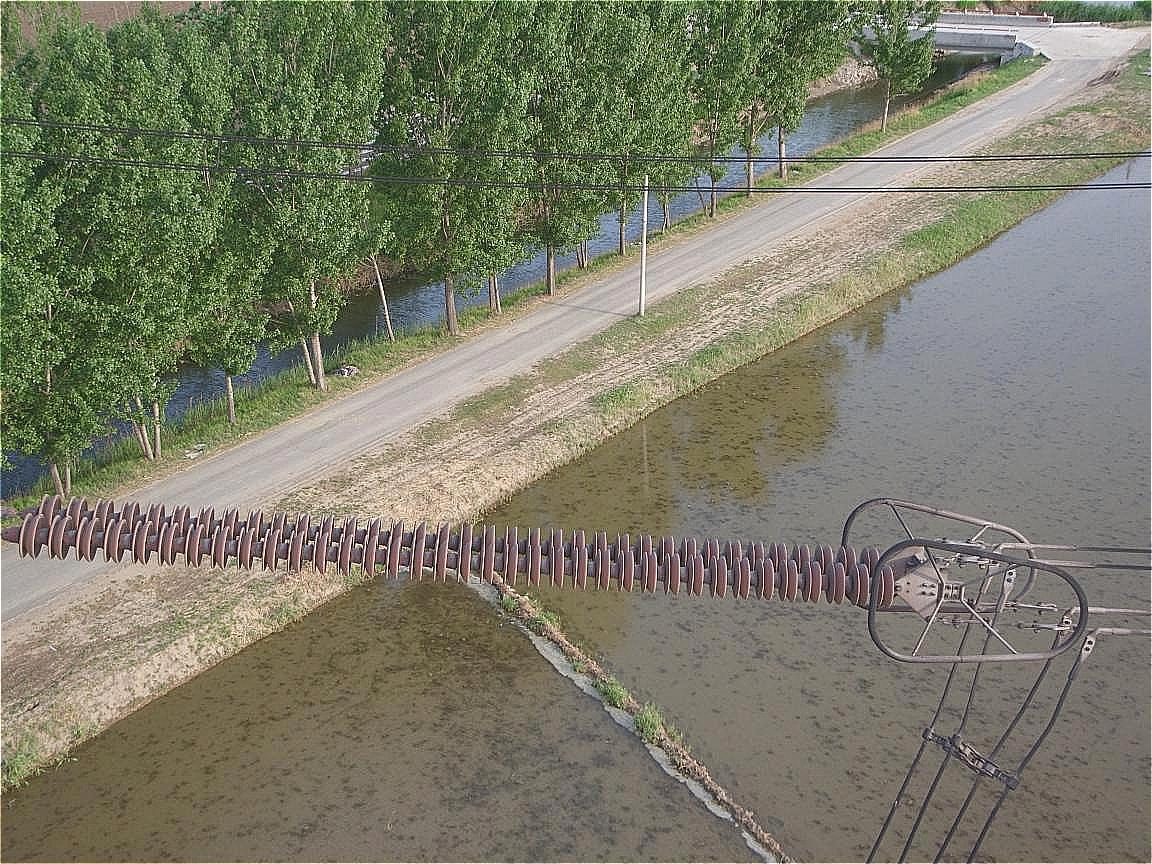insultor2: (17, 468, 885, 635)
